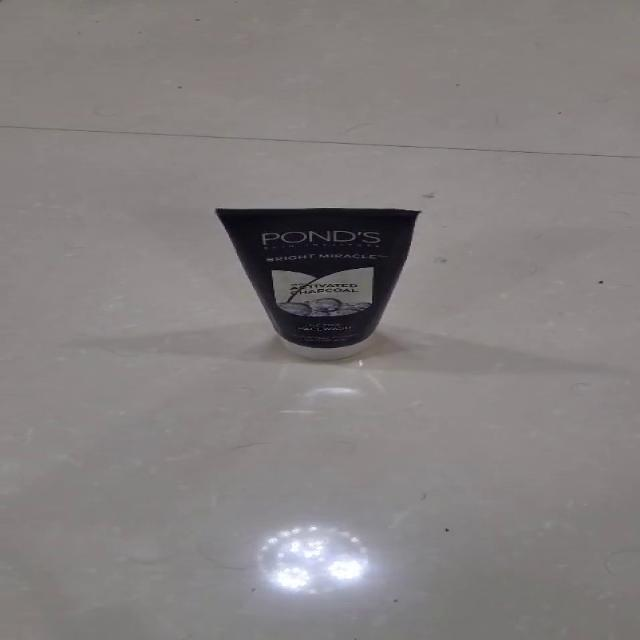plastic: (213, 205, 420, 360)
